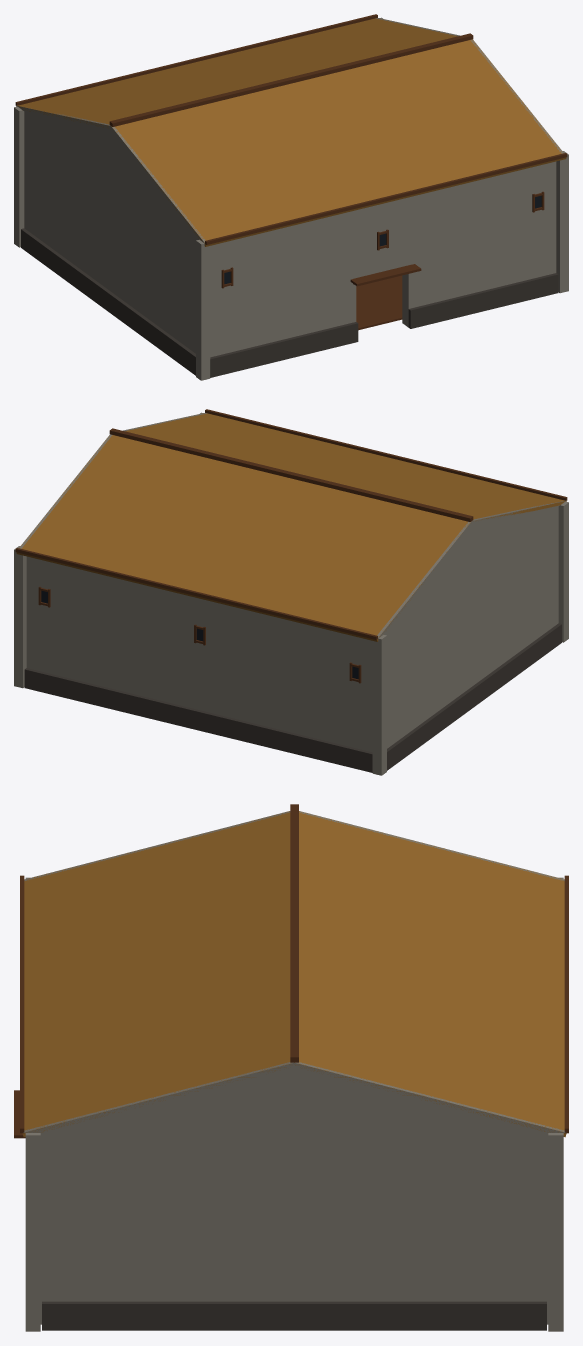
Rendered from granary.glb.
3 renders of one model, top to bottom at view 1: azimuth 30°, elevation 25°; view 2: azimuth 150°, elevation 25°; view 3: azimuth 270°, elevation 25°, orthographic. The views are drawn at different scales.
Visible parts, largest first — view 1: granary_stone, granary_roof_straw, granary_plinth, granary_timber; view 2: granary_stone, granary_roof_straw, granary_plinth, granary_timber; view 3: granary_roof_straw, granary_stone, granary_plinth, granary_timber.
Part boxes in pixels (box(x1,y1,x2,y2)): granary_stone: box(14, 17, 568, 380); granary_roof_straw: box(16, 18, 566, 246); granary_plinth: box(21, 228, 558, 377); granary_timber: box(15, 14, 567, 330); granary_stone: box(14, 412, 568, 775); granary_roof_straw: box(16, 413, 566, 641); granary_plinth: box(24, 623, 561, 772); granary_timber: box(15, 409, 567, 683); granary_roof_straw: box(22, 811, 566, 1137); granary_stone: box(23, 811, 565, 1331); granary_plinth: box(42, 1301, 546, 1330); granary_timber: box(14, 804, 568, 1138).
Bounding box in the file's own units: 16.92 × 8.31 × 15.39.
